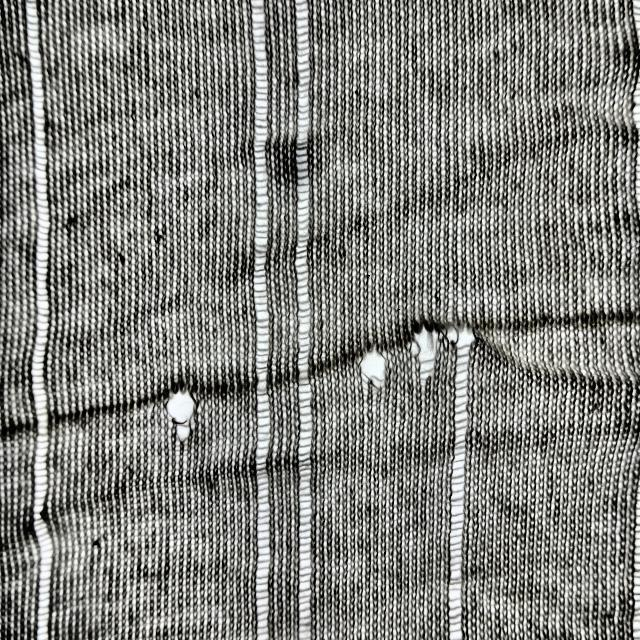cut: (271, 129, 330, 193), (160, 384, 207, 448), (407, 323, 445, 388), (355, 347, 390, 390)
gray stitch: (20, 0, 56, 638), (290, 0, 322, 639), (243, 0, 274, 638), (449, 320, 476, 640)
